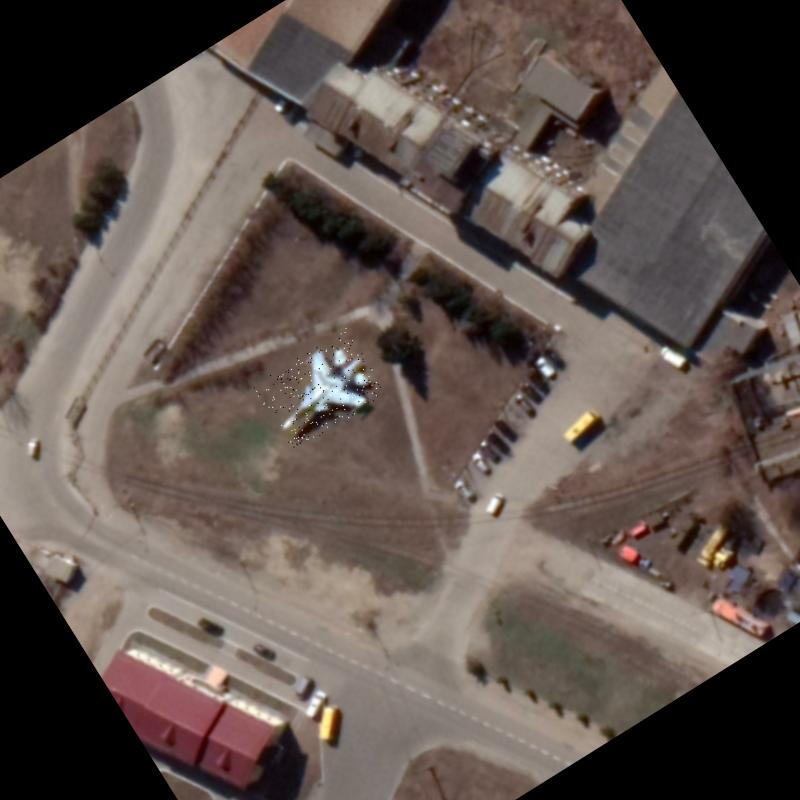A19: (253, 328, 388, 453)
